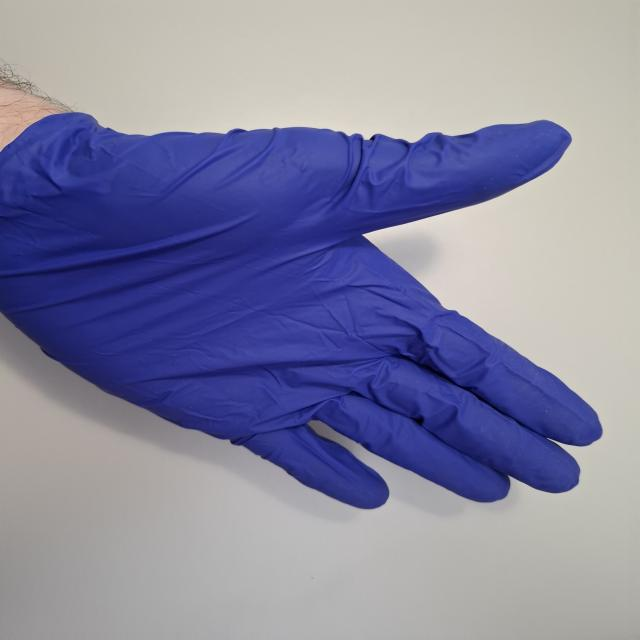glove_on: (0, 108, 610, 512)
